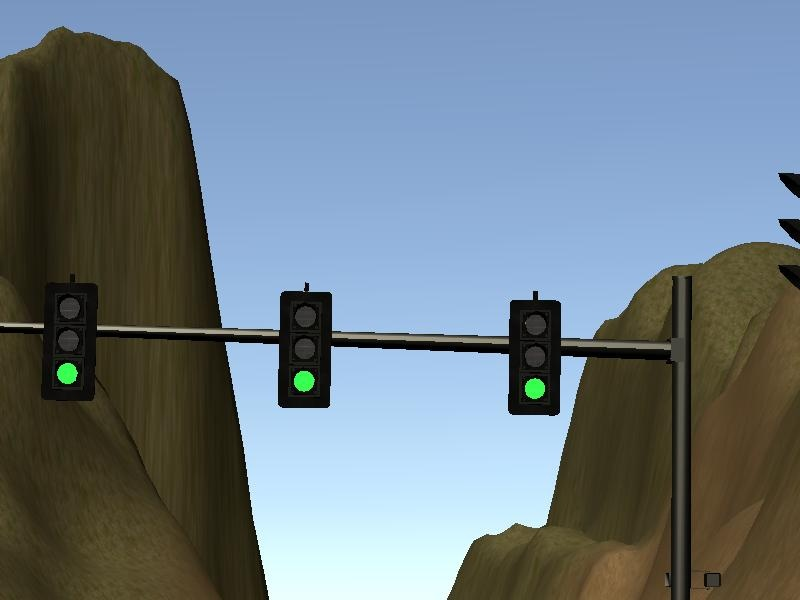traffic_light_green: (30, 277, 650, 422)
